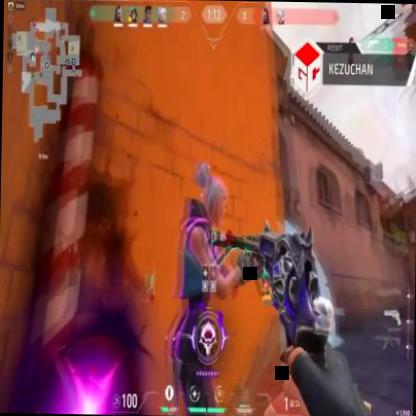enemy: (166, 150, 245, 416)
enemy_head: (196, 160, 228, 228)
